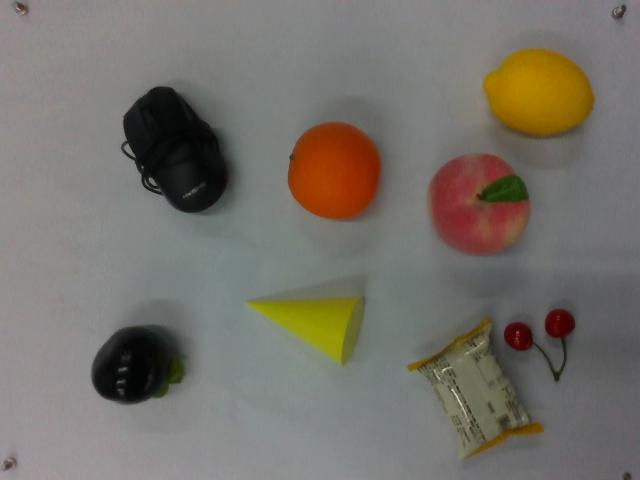cherry: (505, 305, 578, 384)
cone: (243, 291, 366, 369)
dessert: (411, 321, 540, 459)
lemon: (485, 49, 595, 136)
mangosteen: (88, 325, 187, 407)
mouse: (119, 85, 232, 215)
orange: (284, 121, 382, 221)
peach: (425, 150, 533, 262)
